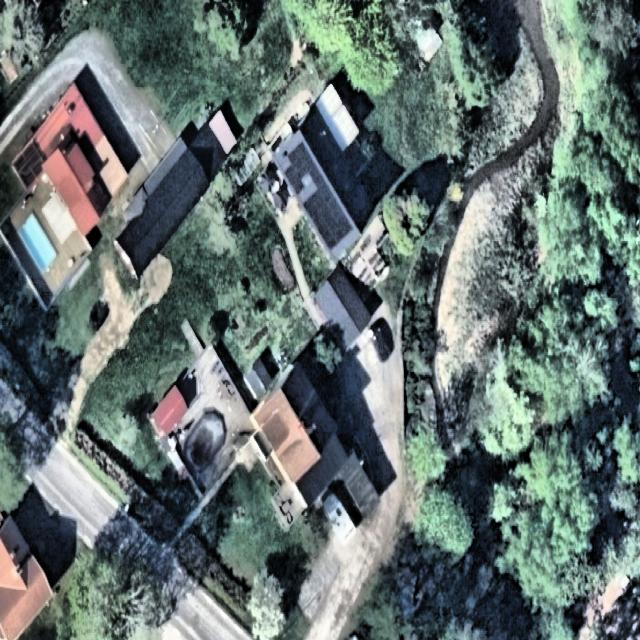roof_pv: (304, 186, 353, 252), (282, 139, 315, 176), (284, 170, 304, 196), (307, 162, 324, 192)
